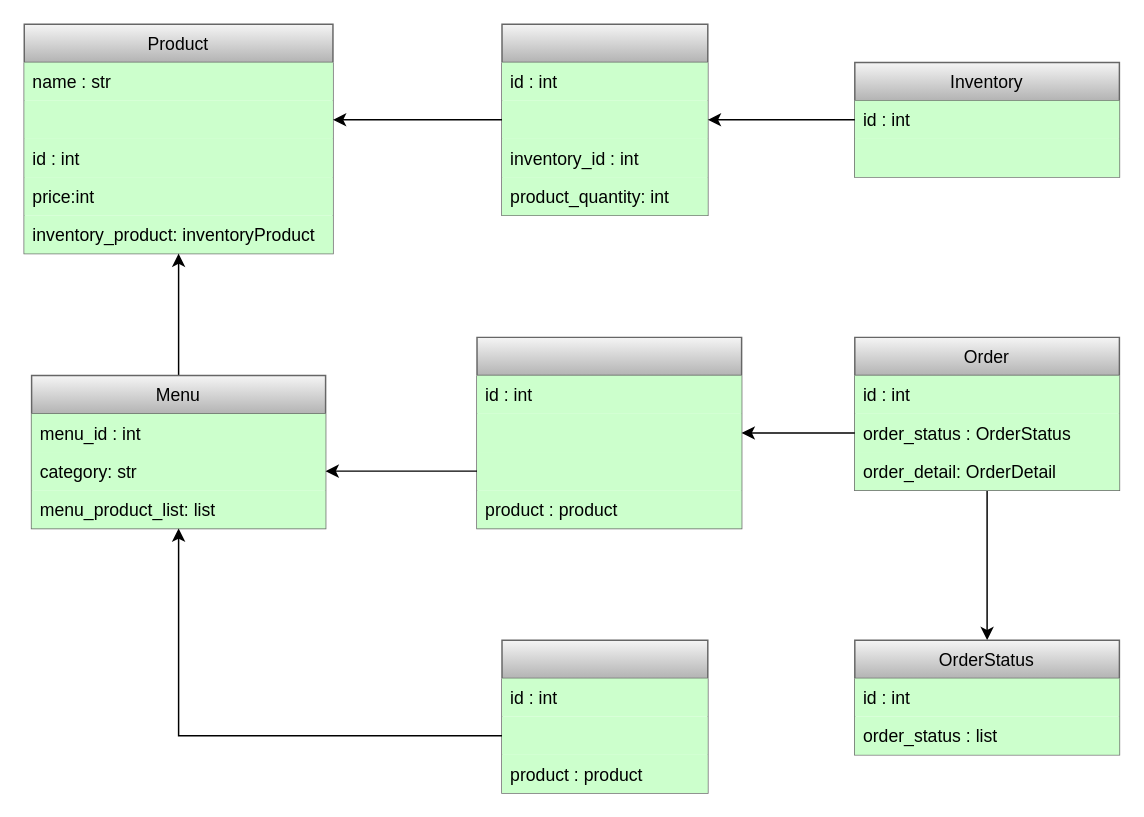
The diagram is 1144 pixels wide and 817 high, and some of its shapes have lost their labels. Here are the shapes that lost their labels. From the top down, the box of each, then its label:
(24, 100, 332, 138): description : str
(501, 100, 707, 138): product_id: int
(501, 23, 708, 215): InventoryProduct
(854, 138, 1119, 176): inventory_product_list : list
(476, 413, 741, 451): order_product_list = list
(476, 336, 742, 528): OrderDetail
(476, 451, 741, 490): order_amount = OrderAmount
(501, 716, 707, 754): tax : int
(501, 639, 708, 793): OrderAmount
